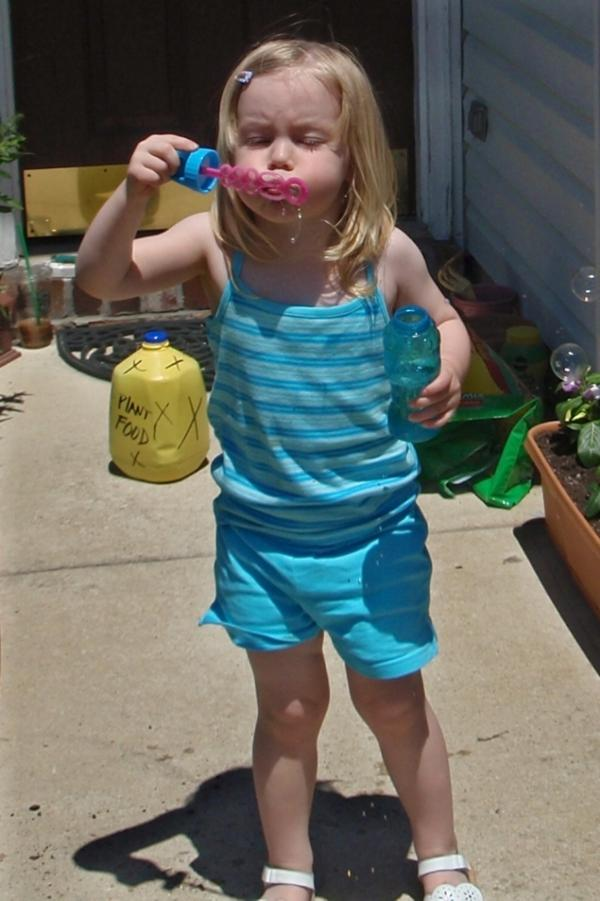person: (73, 36, 489, 901)
